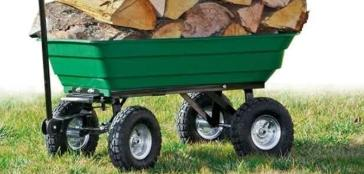BROUETTE: (27, 33, 313, 174)
